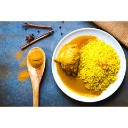briyani: (62, 40, 120, 93)
